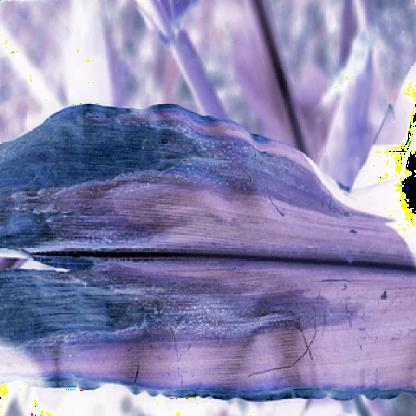Corn leaf blight: (1, 105, 415, 400)
